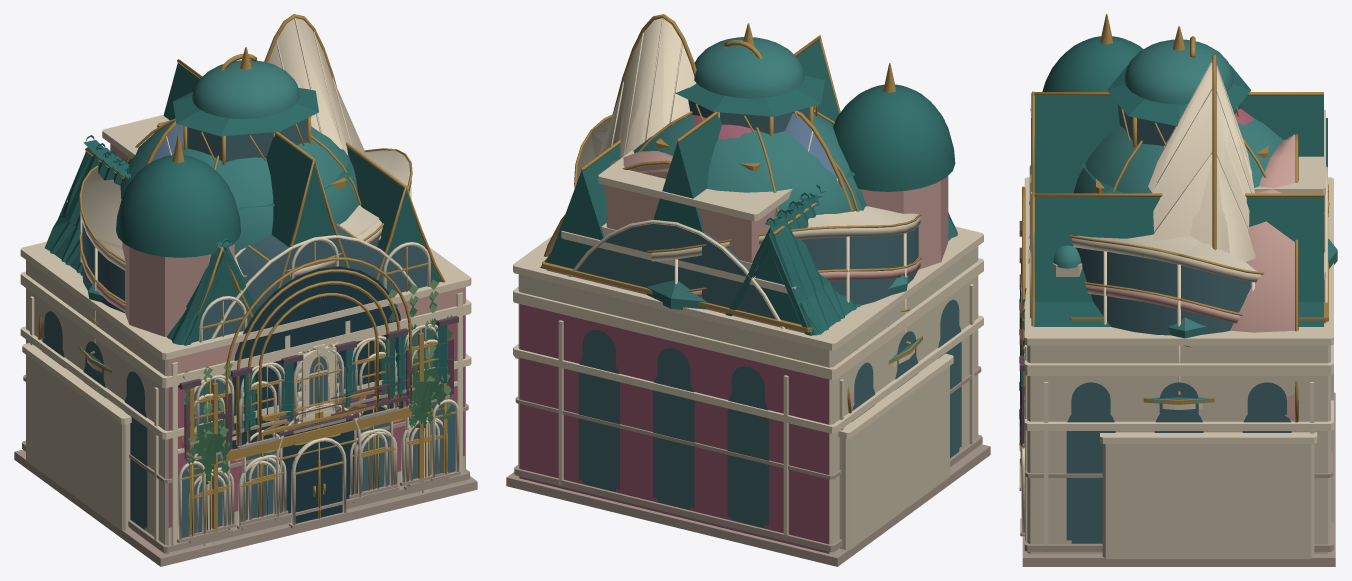
File: architecture.glb
3 views of the same model, side by side, from view 1: azimuth 30°, elevation 25°; view 2: azimuth 150°, elevation 25°; view 3: azimuth 270°, elevation 25° (orthographic). The views are drawn at different scales.
Parts seen in each view (by area): view 1: heritage, theater, storybook, observatory, lantern, palazzo, heritage-lo, terrace, storybook-lo, ribbon, conservatory, sail (+9 smaller); view 2: theater, heritage, observatory, storybook, heritage-lo, ribbon, terrace, lantern, conservatory, sail, storybook-lo, terrace-lo (+6 smaller); view 3: heritage, observatory, storybook-lo, ribbon, heritage-lo, storybook, lantern, sail, shell, terrace, theater, sail-lo (+7 smaller).
Part boxes in pixels (<box>): heritage: <box>15,134,476,554</box>; theater: <box>14,121,471,551</box>; storybook: <box>21,59,470,541</box>; observatory: <box>22,53,361,530</box>; lantern: <box>14,47,477,566</box>; palazzo: <box>30,177,462,545</box>; heritage-lo: <box>20,136,470,558</box>; terrace: <box>20,115,470,552</box>; storybook-lo: <box>20,63,471,384</box>; ribbon: <box>79,148,438,470</box>; conservatory: <box>167,223,465,554</box>; sail: <box>145,14,437,523</box>; theater: <box>513,138,982,553</box>; heritage: <box>507,63,989,558</box>; observatory: <box>514,40,953,549</box>; storybook: <box>513,35,983,551</box>; heritage-lo: <box>513,63,983,553</box>; ribbon: <box>574,114,921,333</box>; terrace: <box>513,150,983,553</box>; lantern: <box>675,23,990,566</box>; conservatory: <box>568,219,784,328</box>; sail: <box>609,14,853,211</box>; storybook-lo: <box>513,40,983,376</box>; terrace-lo: <box>513,185,833,433</box>; heritage: <box>1019,14,1335,557</box>; observatory: <box>1074,36,1317,558</box>; storybook-lo: <box>1024,95,1333,372</box>; ribbon: <box>1022,191,1329,382</box>; heritage-lo: <box>1022,14,1337,557</box>; storybook: <box>1019,91,1333,551</box>; lantern: <box>1022,26,1335,566</box>; sail: <box>1152,54,1253,253</box>; shell: <box>1230,134,1298,422</box>; terrace: <box>1019,109,1333,552</box>; theater: <box>1019,145,1335,558</box>; sail-lo: <box>1148,64,1255,261</box>.
Bounding box in the file's own units: 20.3 × 26.1 × 16.27.
